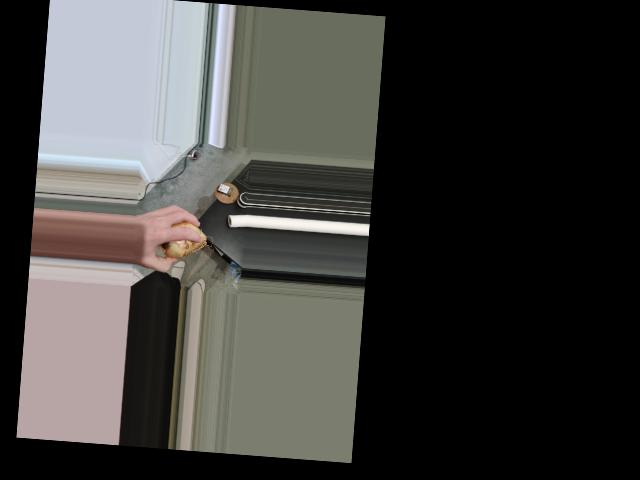onion: (161, 221, 206, 261)
